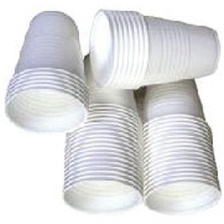glass: (55, 48, 144, 218), (81, 1, 223, 92), (138, 65, 223, 217), (1, 1, 91, 138)
